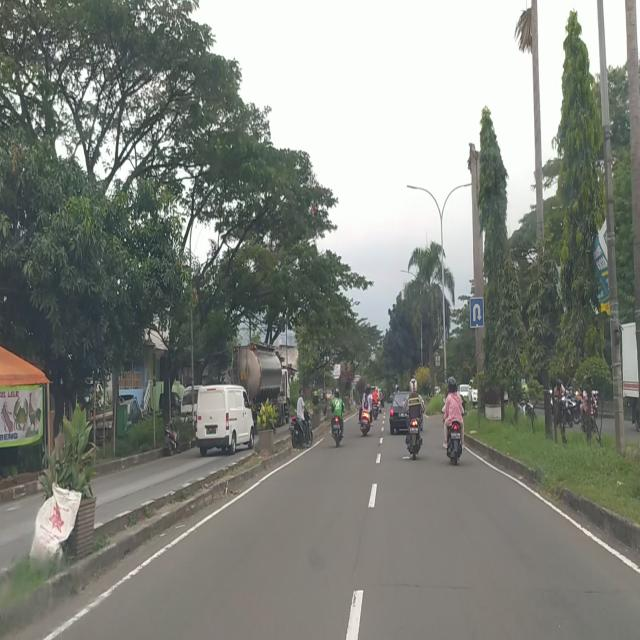Sewer Cover: (379, 577, 620, 593)
